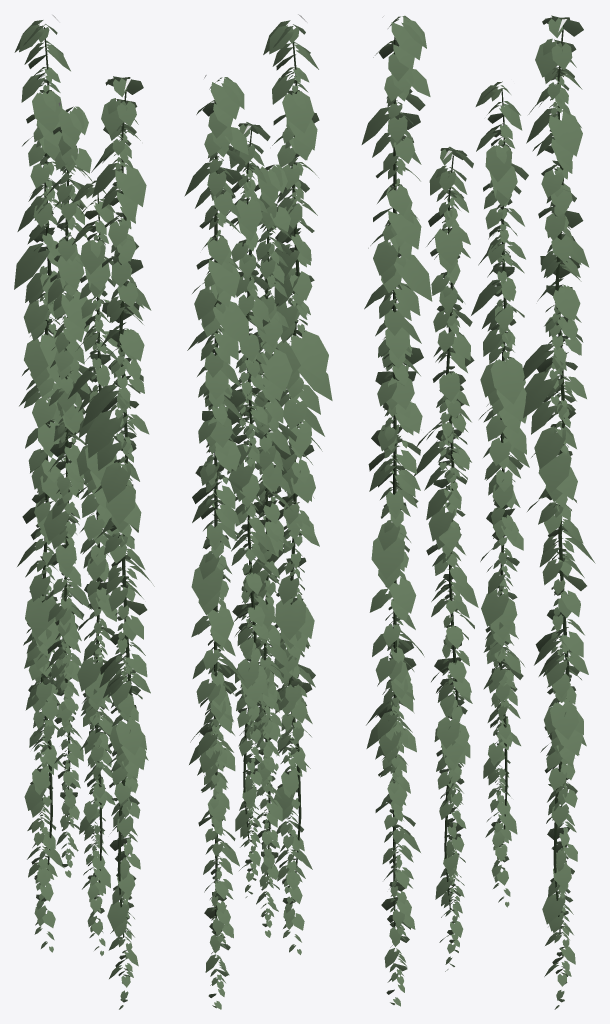
The model's file is W_plant.glb.
3 views of the same model, side by side, from view 1: azimuth 30°, elevation 25°; view 2: azimuth 150°, elevation 25°; view 3: azimuth 270°, elevation 25° (orthographic). The views are drawn at different scales.
Parts seen in each view (by area): view 1: S_WallVines; view 2: S_WallVines; view 3: S_WallVines.
Part boxes in pixels (<box>): S_WallVines: <box>14,14,154,1009</box>; S_WallVines: <box>184,14,332,1009</box>; S_WallVines: <box>361,15,595,1009</box>.
Size of the model in its own units: 0.3583 by 4.95 by 1.06.
